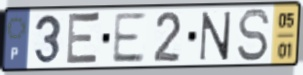2: (153, 10, 183, 64)
3: (31, 13, 65, 66)
E: (64, 10, 103, 68), (110, 11, 147, 65)
N: (197, 10, 234, 63)
S: (235, 7, 272, 64)
